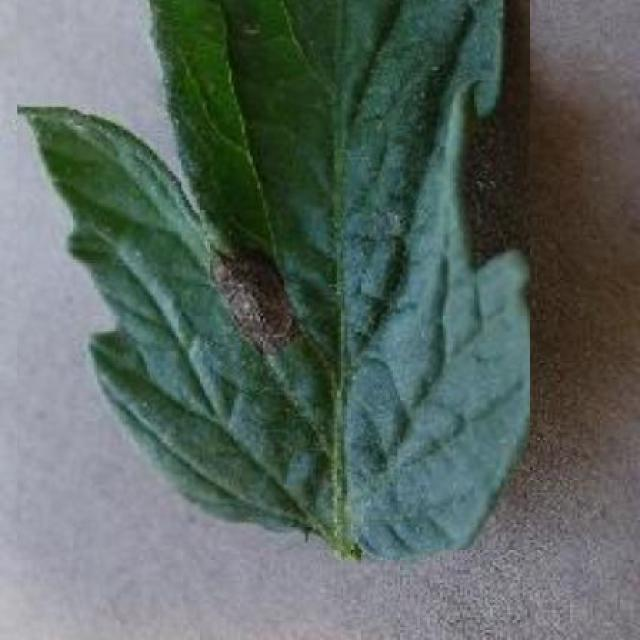Early Blight: (17, 0, 530, 550)
